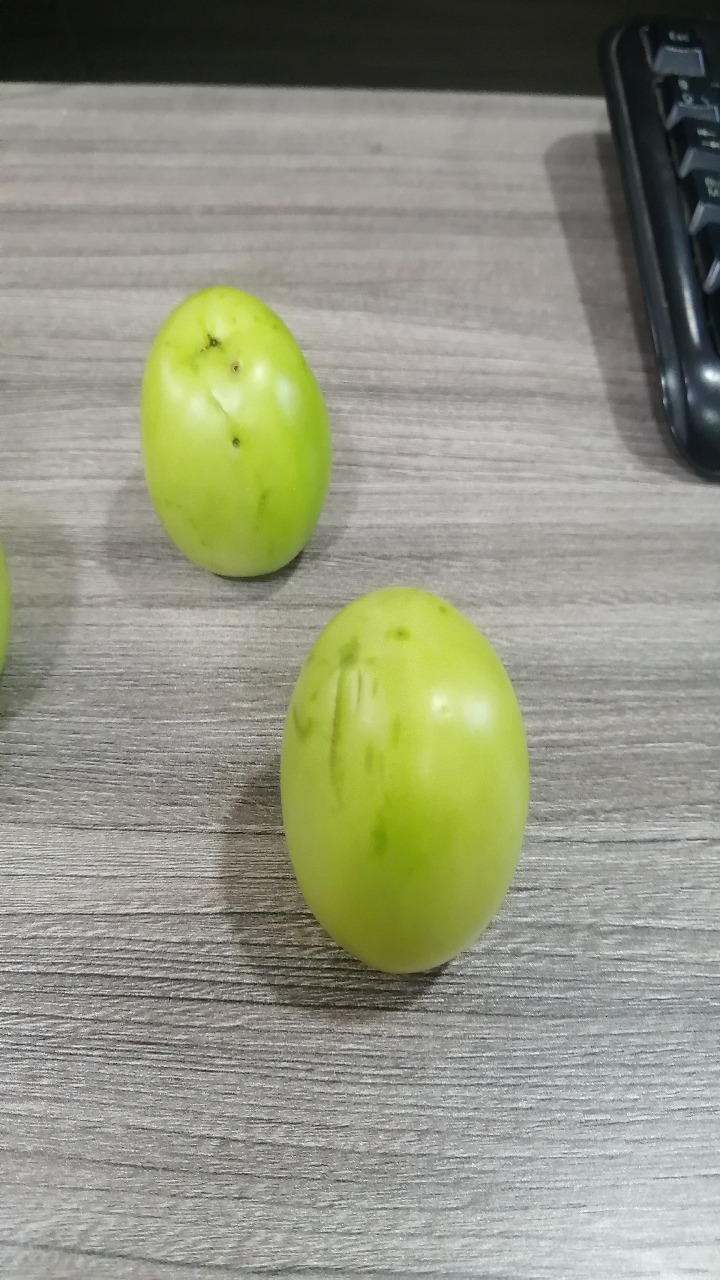tomateVerde: (257, 574, 552, 1011), (117, 257, 352, 608)
